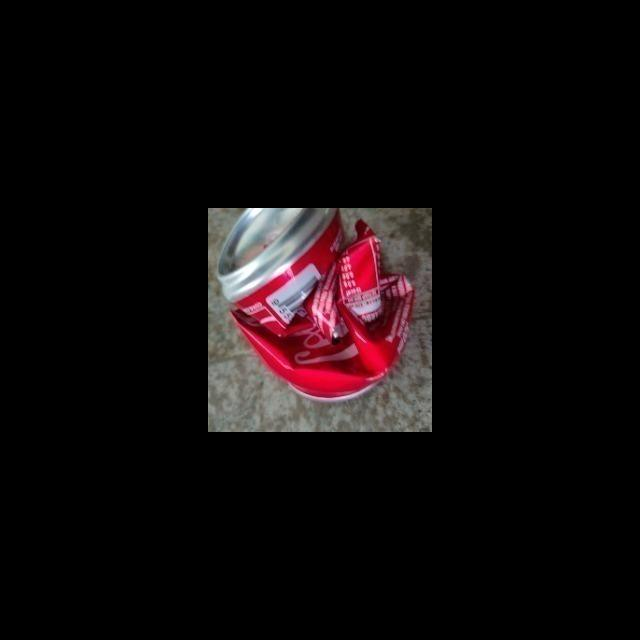metal: (219, 208, 420, 407)
